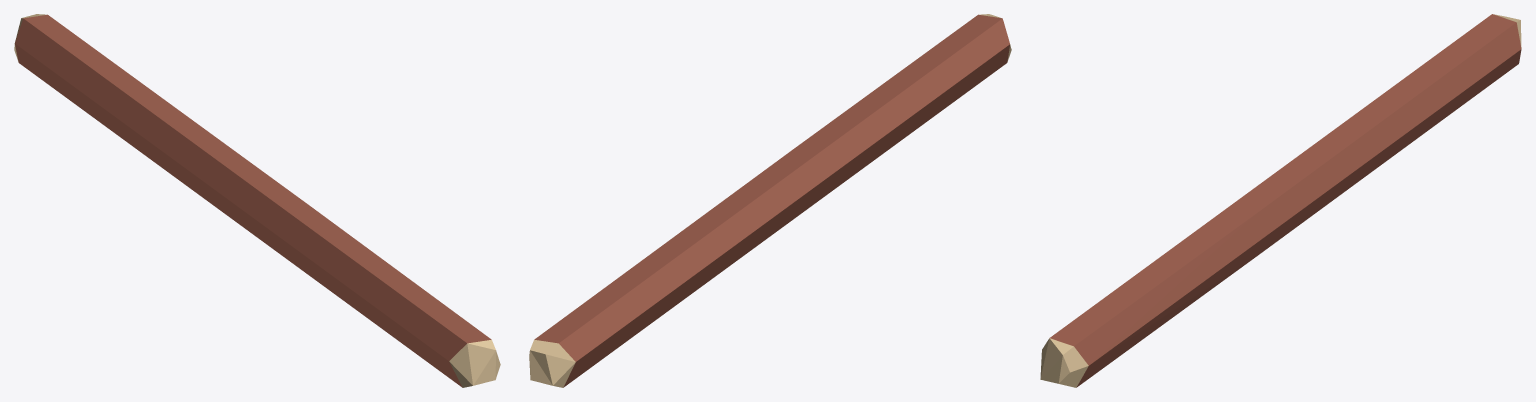
File: EA03_Village_Hut_Wall_Painted_Desk_02a.glb
The picture shows the model from 3 angles, left to right: view 1: azimuth 30°, elevation 25°; view 2: azimuth 150°, elevation 25°; view 3: azimuth 330°, elevation 25°; orthographic projection.
Parts seen in each view (by area): view 1: EA03_Village_Hut_Wall_Painted_Desk_02a; view 2: EA03_Village_Hut_Wall_Painted_Desk_02a; view 3: EA03_Village_Hut_Wall_Painted_Desk_02a.
Part boxes in pixels (x1=…): EA03_Village_Hut_Wall_Painted_Desk_02a: x1=14, y1=14, x2=500, y2=387; EA03_Village_Hut_Wall_Painted_Desk_02a: x1=529, y1=14, x2=1011, y2=387; EA03_Village_Hut_Wall_Painted_Desk_02a: x1=1040, y1=14, x2=1521, y2=387.
Bounding box in the file's own units: 0.4951 × 0.4412 × 8.52.
Materials: 1 (1 with a texture image).
